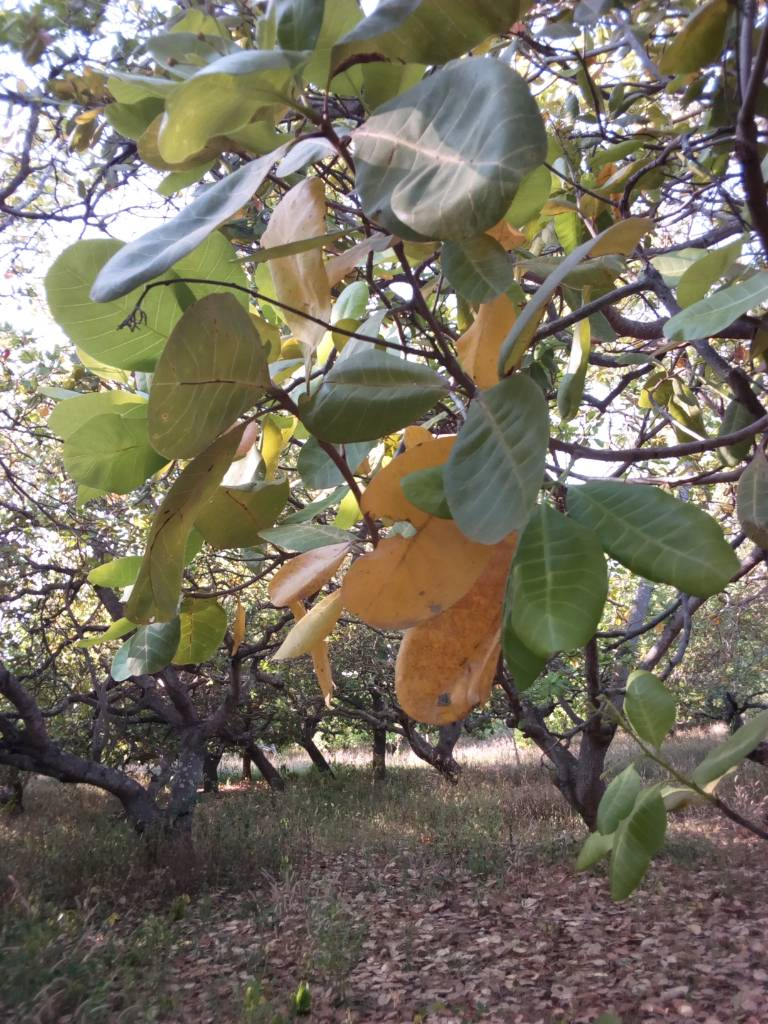Dessèchement des bourgeons: (290, 49, 374, 139), (119, 277, 197, 332)
